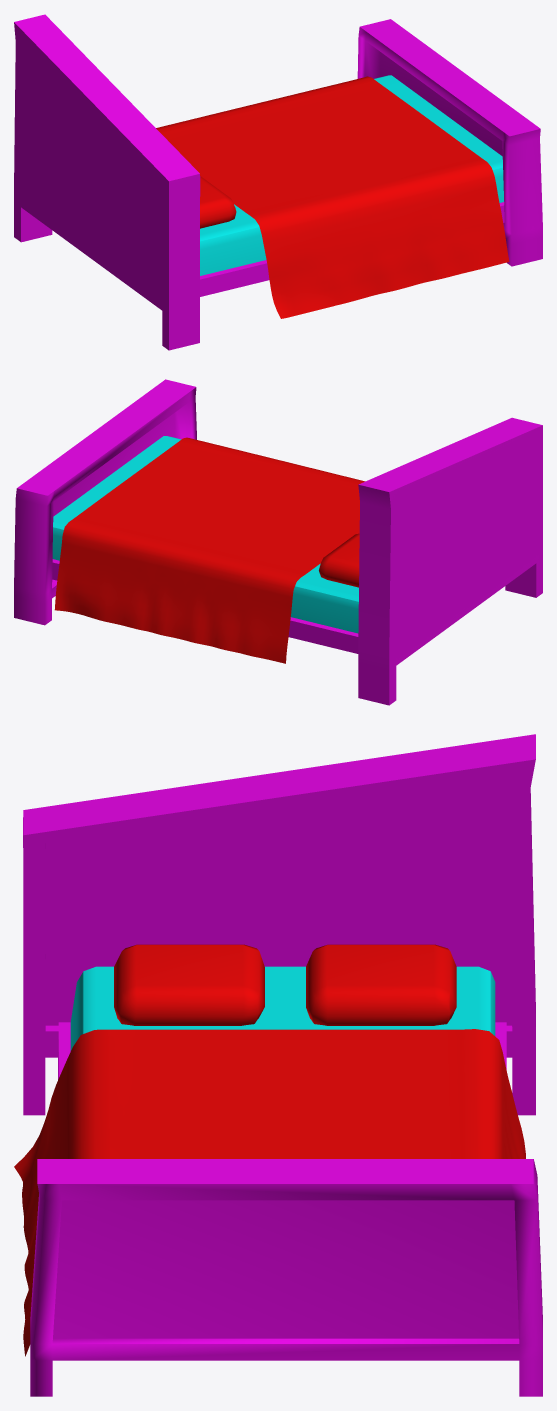
Rendered from bed.fbx.
The picture shows the model from 3 angles, top to bottom: view 1: azimuth 30°, elevation 25°; view 2: azimuth 150°, elevation 25°; view 3: azimuth 270°, elevation 25°; orthographic projection. The views are drawn at different scales.
Visible parts, largest first — view 1: Bed; view 2: Bed; view 3: Bed.
Part boxes in pixels (left/top/right/bottom): Bed: left=14, top=14, right=542, bottom=350; Bed: left=14, top=379, right=542, bottom=705; Bed: left=14, top=734, right=542, bottom=1396.
Bounding box in the file's own units: 128 × 70.27 × 93.87.
